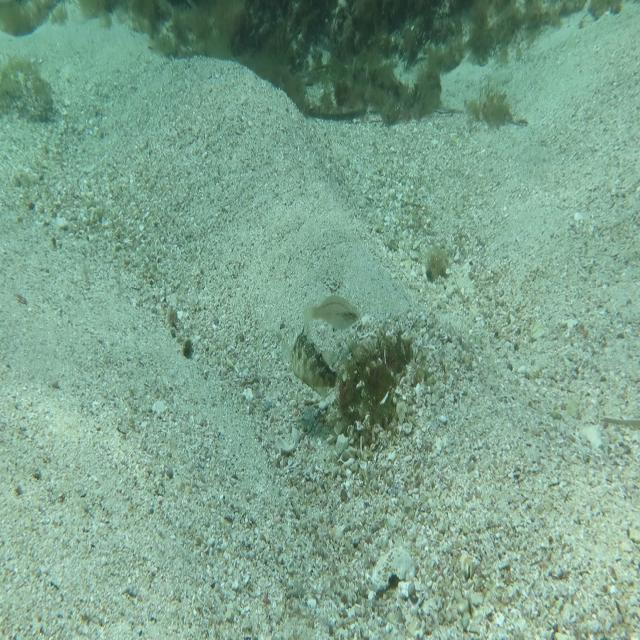BEND: (283, 316, 345, 404)
female: (297, 290, 363, 338)
nest: (321, 307, 416, 442)
vegetation: (244, 0, 512, 71), (420, 238, 454, 292)
